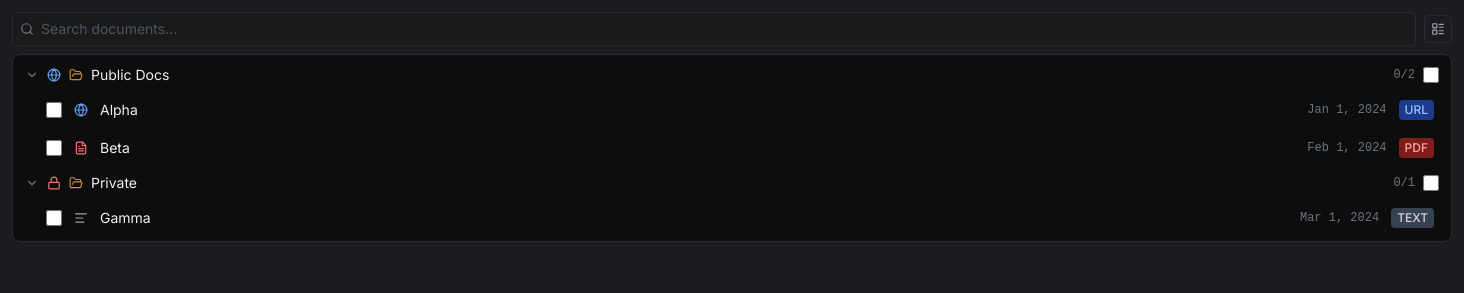
SourceSelector › selection › updates count for multiple selections
This screenshot has width=1464, height=293.
Click the checkbox named "Select Alpha" at (54, 110), box x1=46 y1=102 x2=62 y2=118
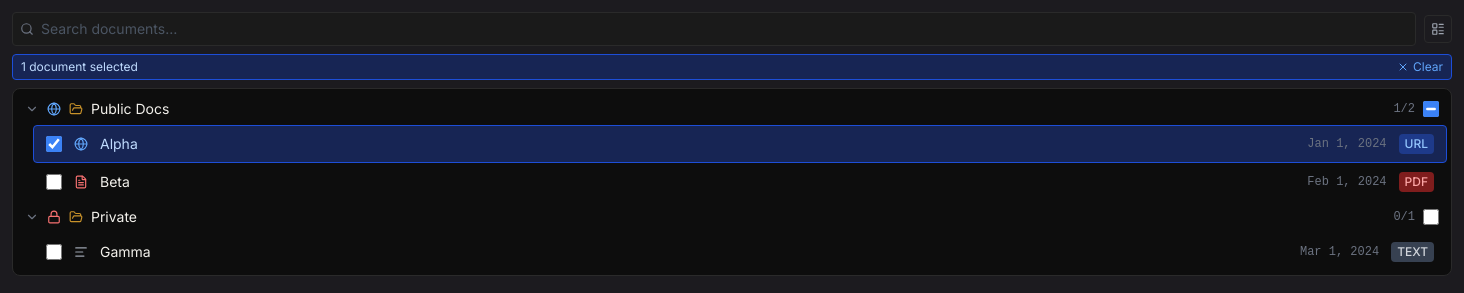
Click the checkbox named "Select Beta" at (54, 182), box x1=46 y1=174 x2=62 y2=190
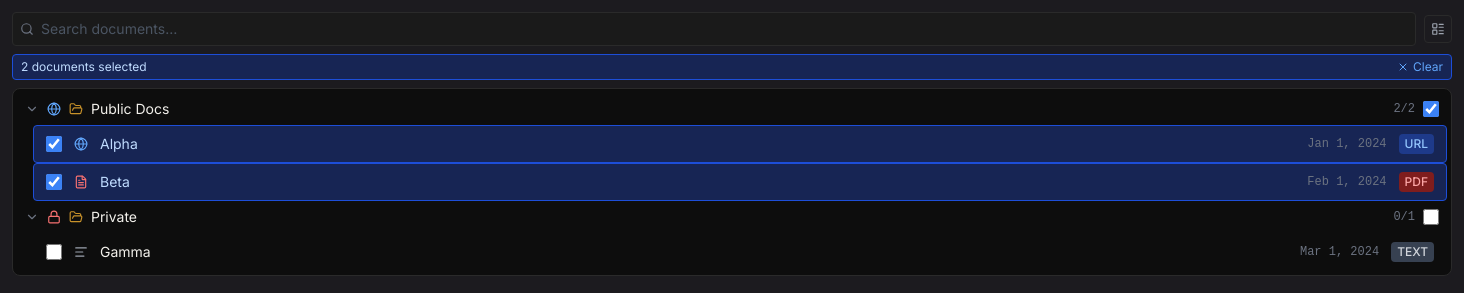
expect the text "2 documents selected" is shown: met, box x1=21 y1=59 x2=147 y2=75
